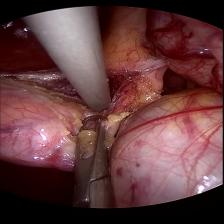Grasper: (68, 113, 118, 198)
Irrigator: (70, 79, 119, 112)
